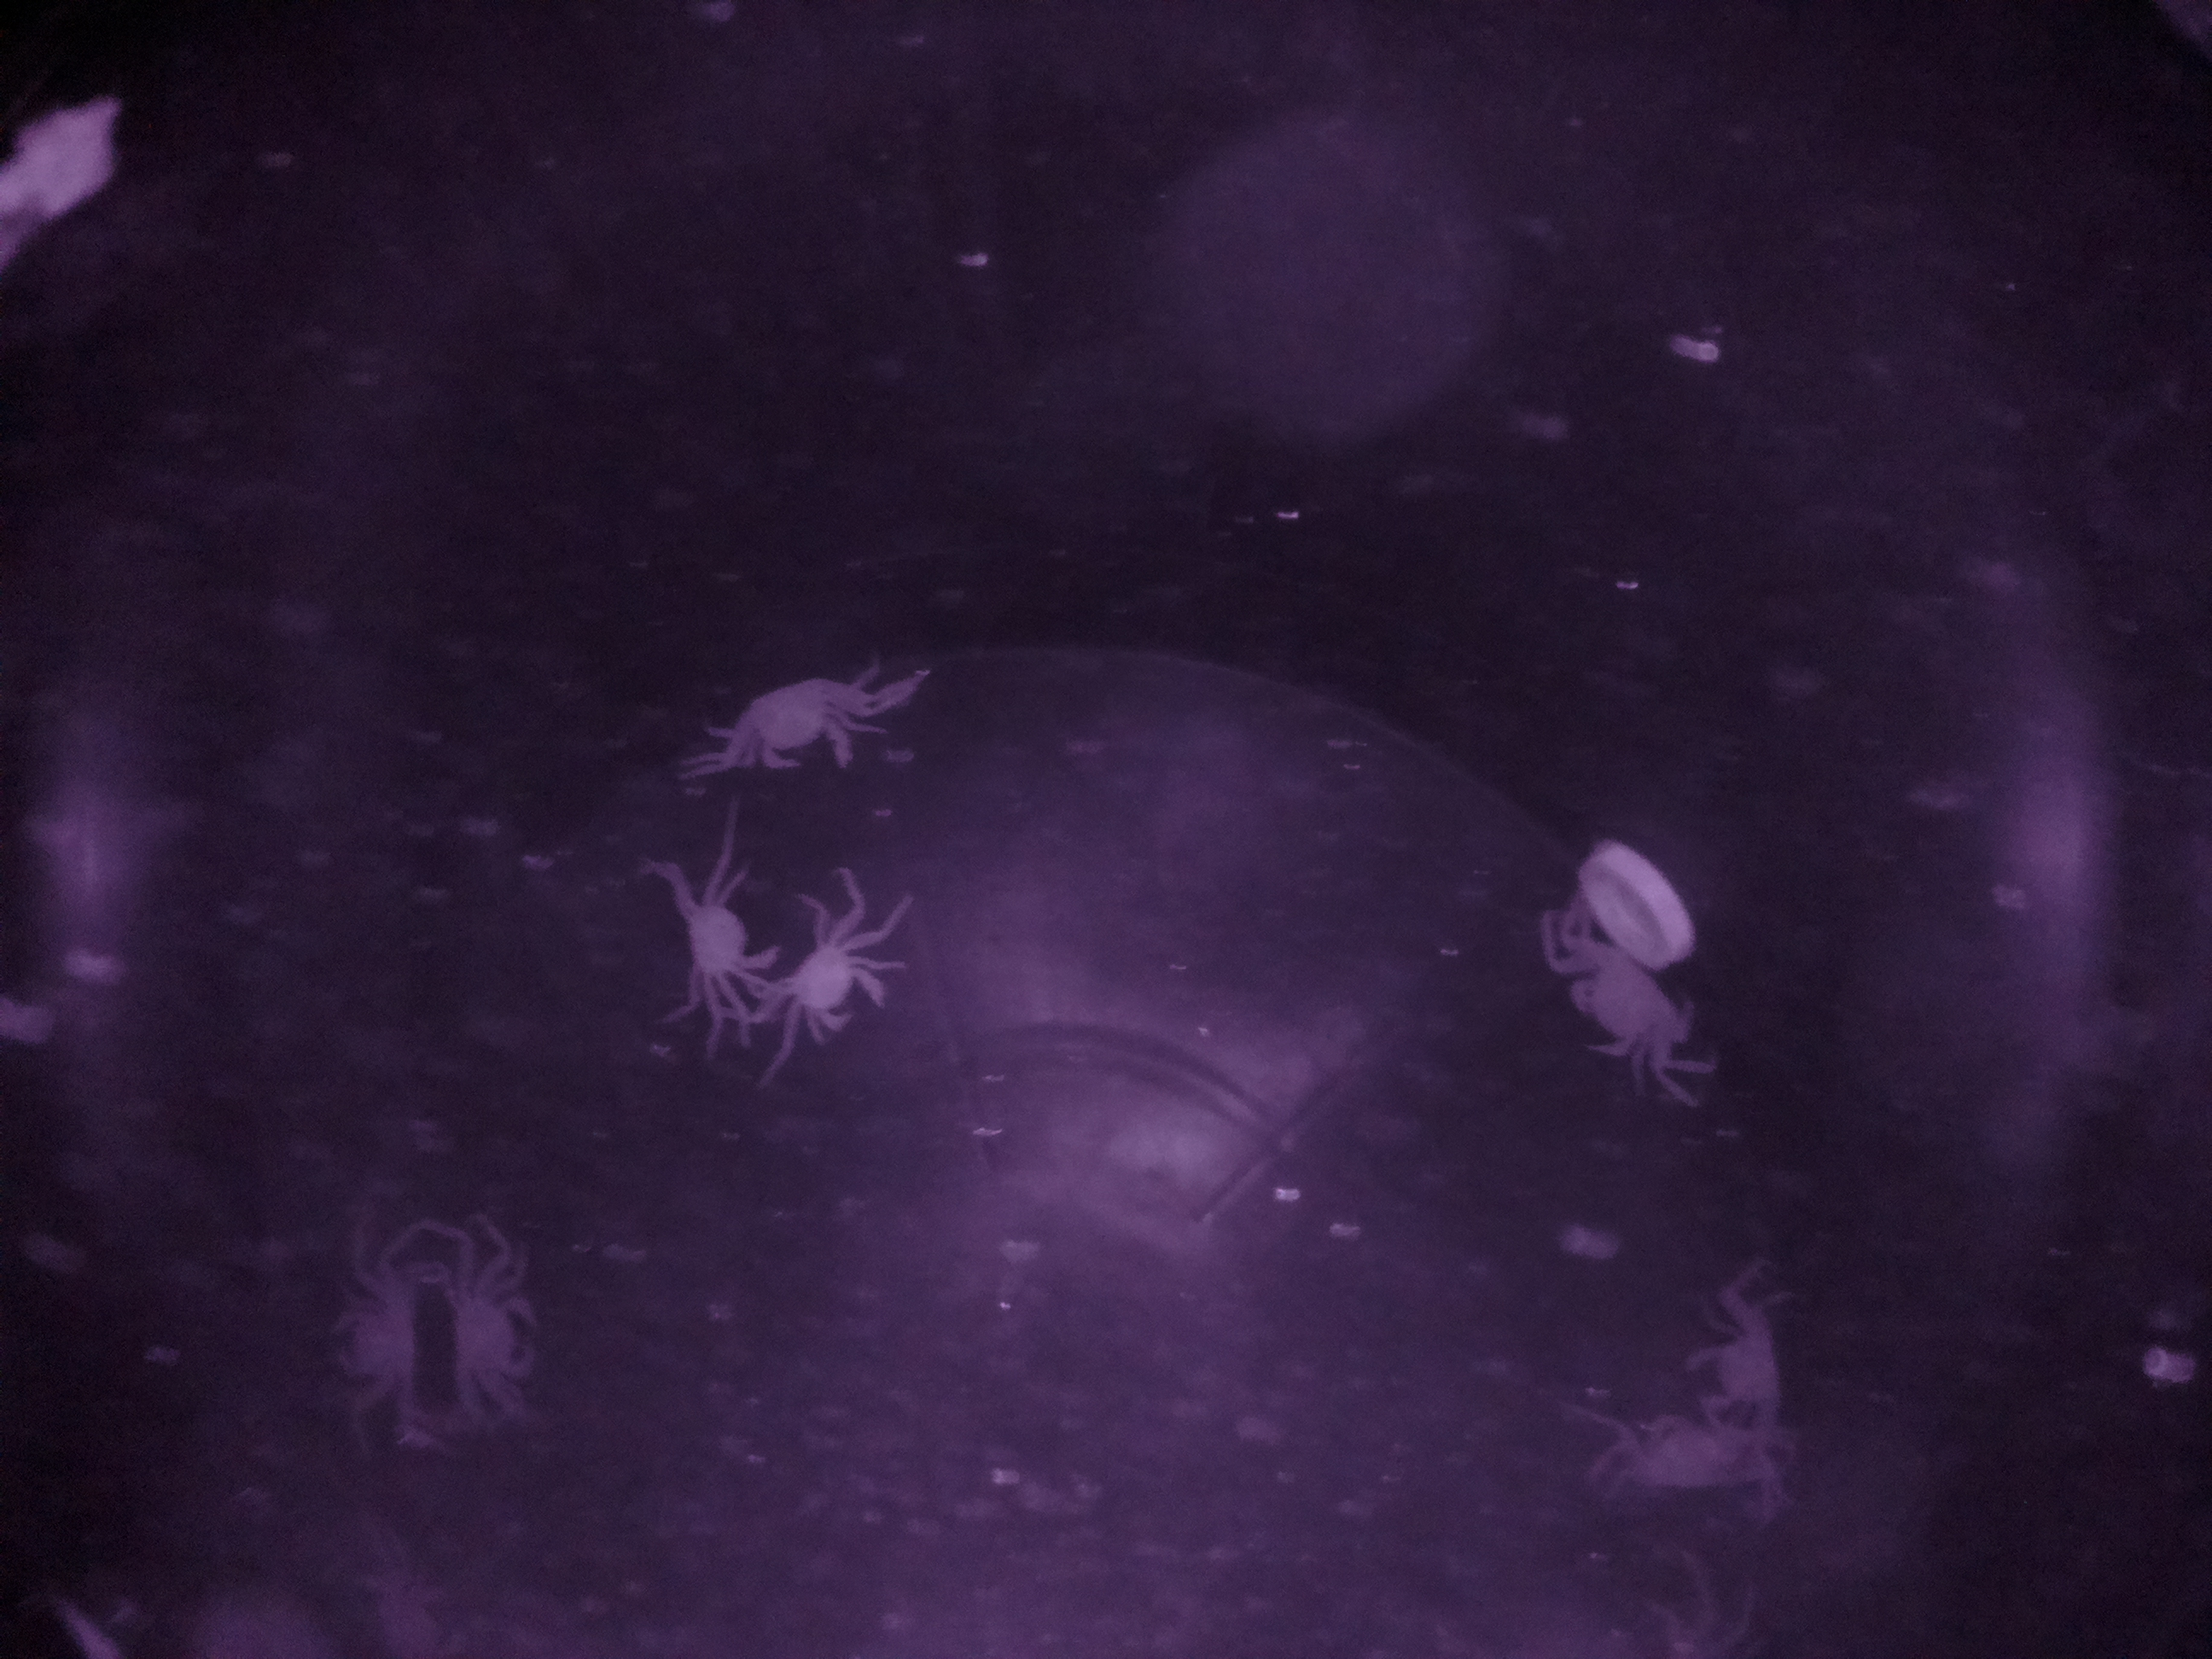Crab: (1536, 911, 1700, 1089), (641, 840, 784, 1018), (698, 648, 874, 791), (430, 1223, 559, 1413), (770, 908, 906, 1066)
